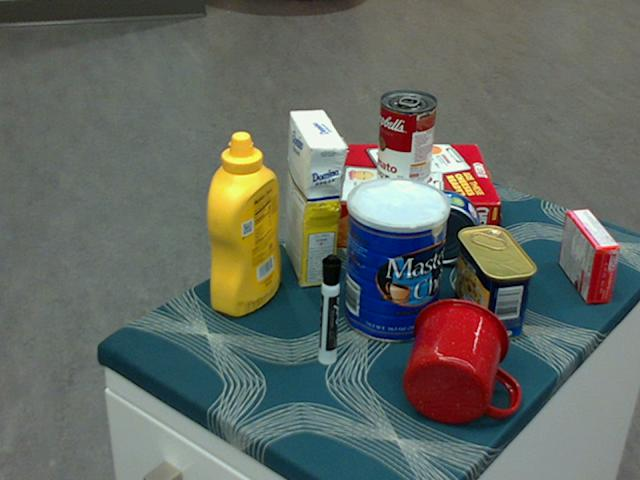cracker_box: (314, 143, 500, 250)
gelatin_box: (559, 209, 620, 304)
large_marker: (317, 253, 340, 366)
master_chef_can: (344, 177, 451, 343)
mug: (403, 297, 518, 424)
mustard_bottle: (205, 131, 281, 317)
potted_meat_can: (454, 225, 538, 340)
sugar_box: (284, 110, 344, 289)
tomato_soup_can: (378, 91, 437, 190)
tuna_fish_can: (406, 189, 479, 264)
